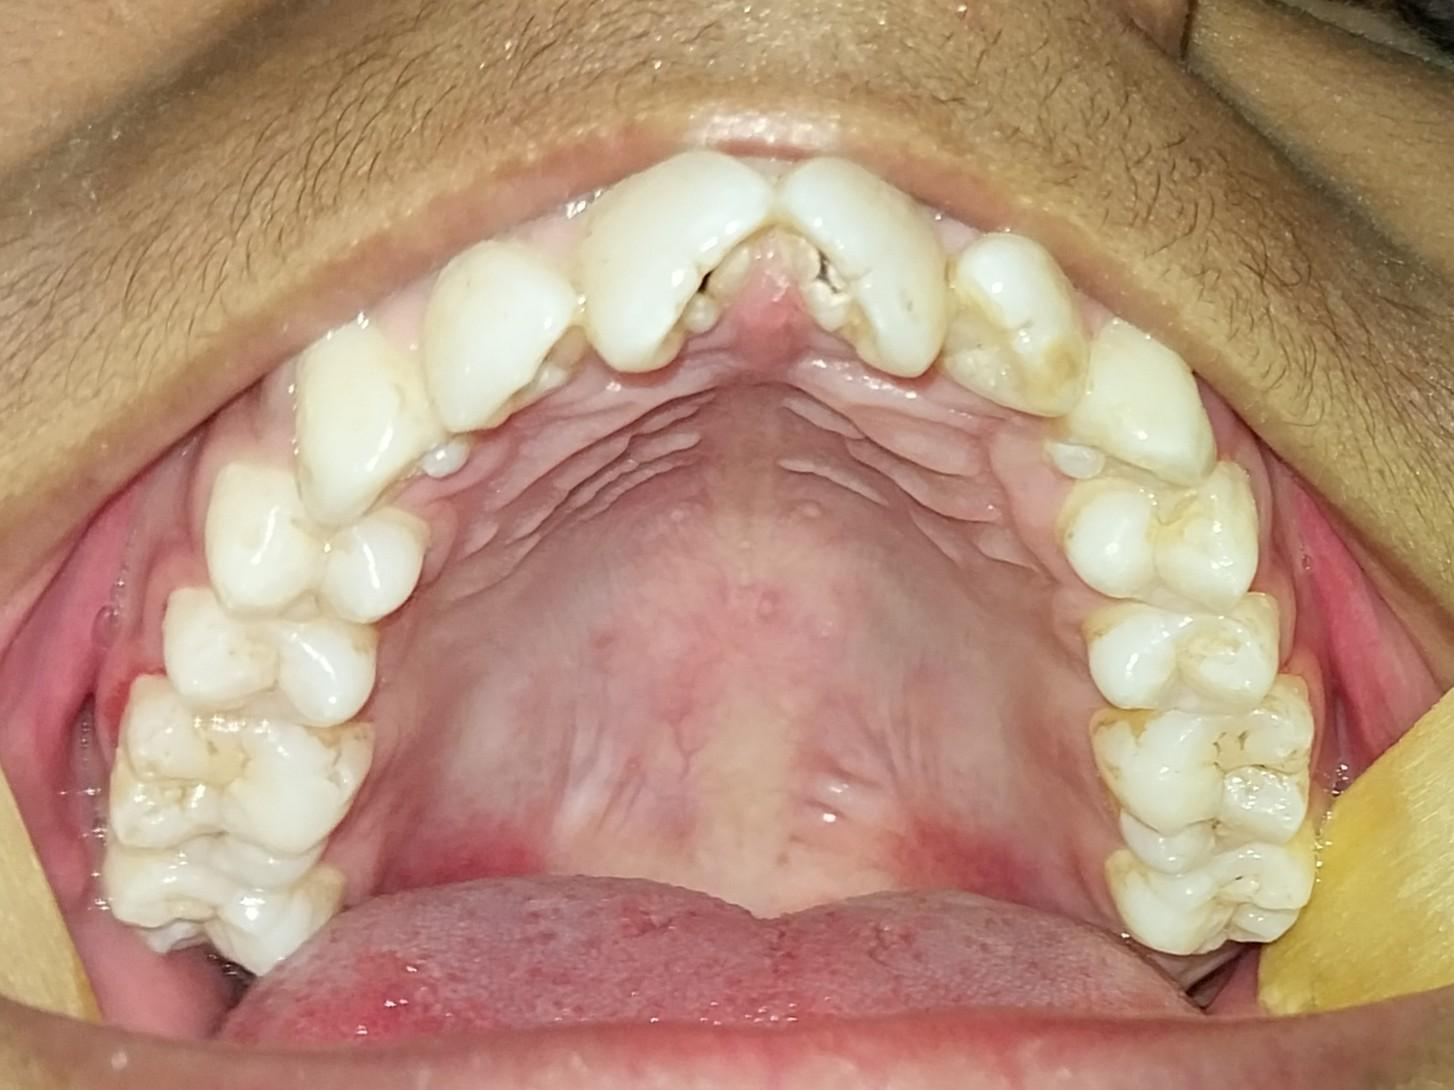D: (773, 163, 951, 394), (588, 156, 773, 378)
